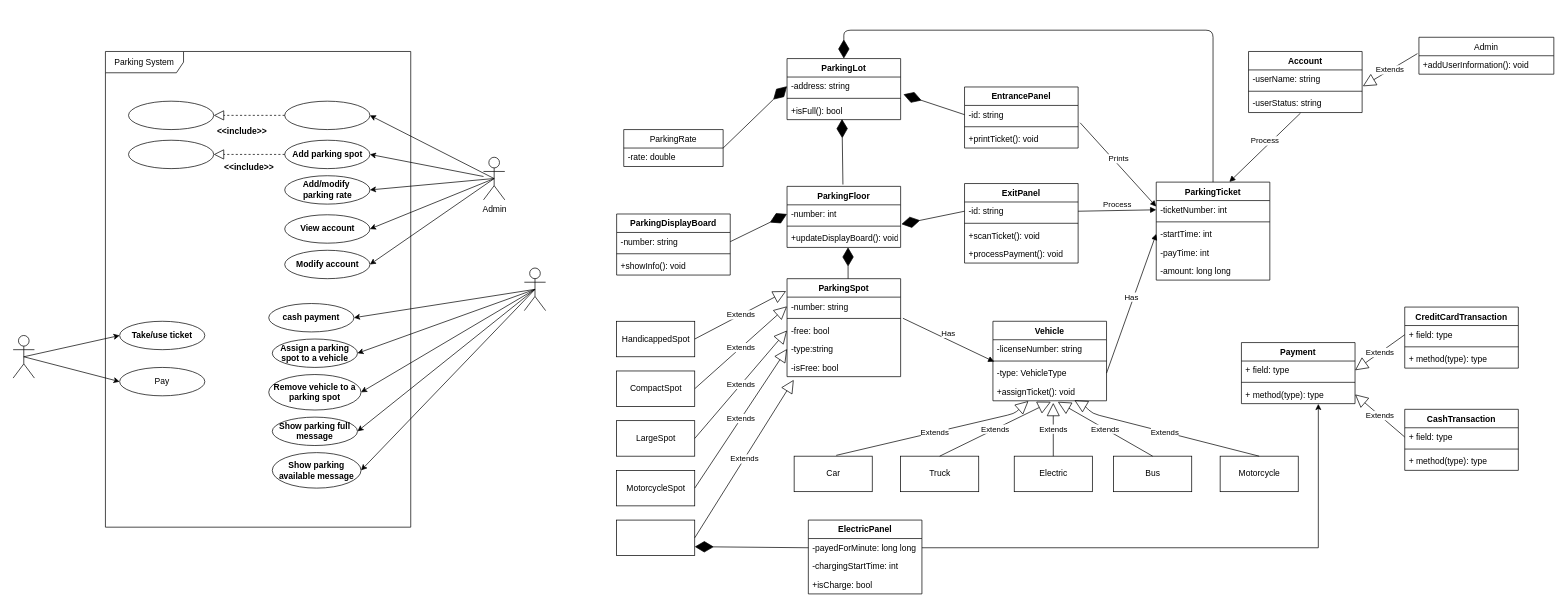
Image size: 1566x608. Some labels were removed from this diagram. Each missing label, with the centre of its shape:
"Add electric panel" goes at pixel 171 154.
"Add parking display board" goes at pixel 171 115.
"Add parking floor" goes at pixel 327 115.
"Driver" goes at pixel 23 356.
"ElectricSpot" goes at pixel 655 537.
"System" goes at pixel 535 289.
